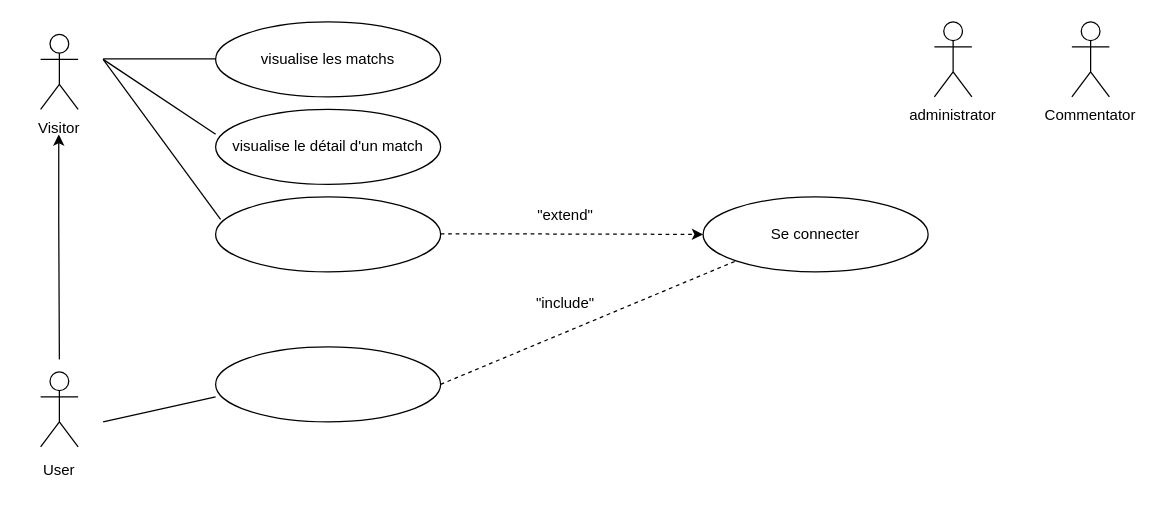
This 1158x511 diagram has some shape labels left out. The centre of each missing label's shape, as x and y in pixels:
effectue un pari: the point at 327,384
se crée un compte: the point at 327,234
